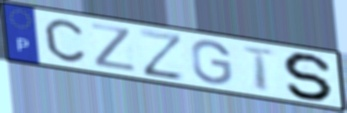C: (42, 17, 88, 64)
G: (190, 39, 235, 87)
S: (281, 51, 337, 102)
T: (240, 44, 280, 94)
Z: (137, 27, 187, 83), (89, 22, 140, 74)
